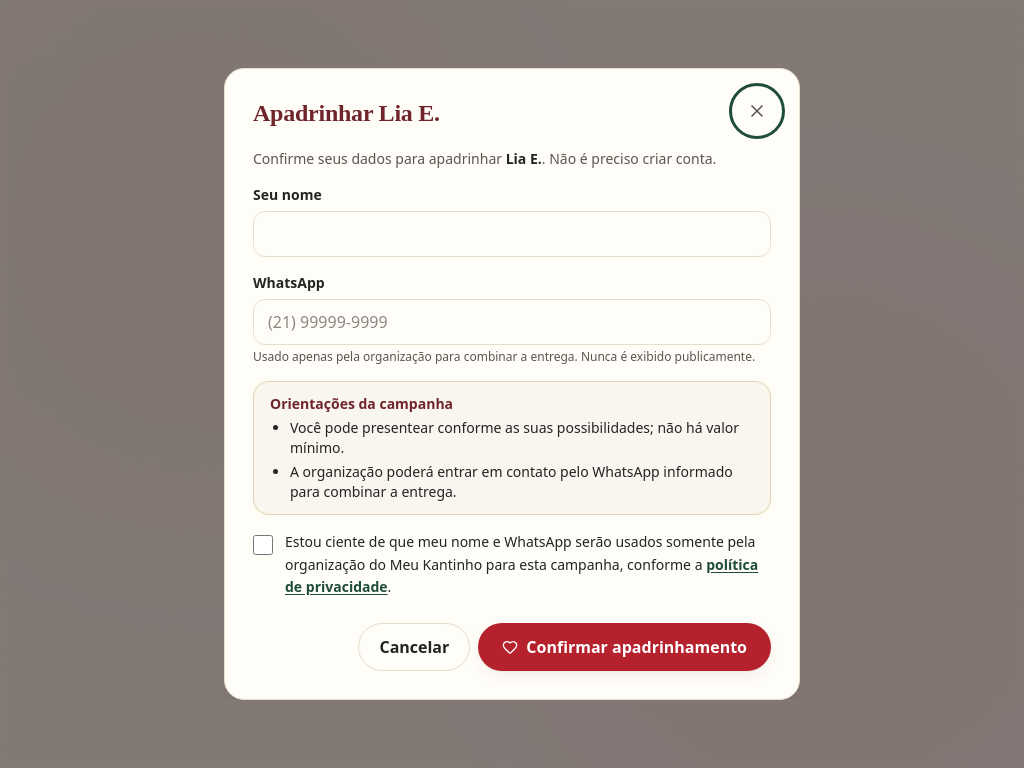
SponsorDialog — animação somente após confirmação do servidor › erro de rede: SEM animação e permite tentar de novo
In the field labelled "Seu nome": [512, 234] box [253,211,771,257], type "Maria Teste"
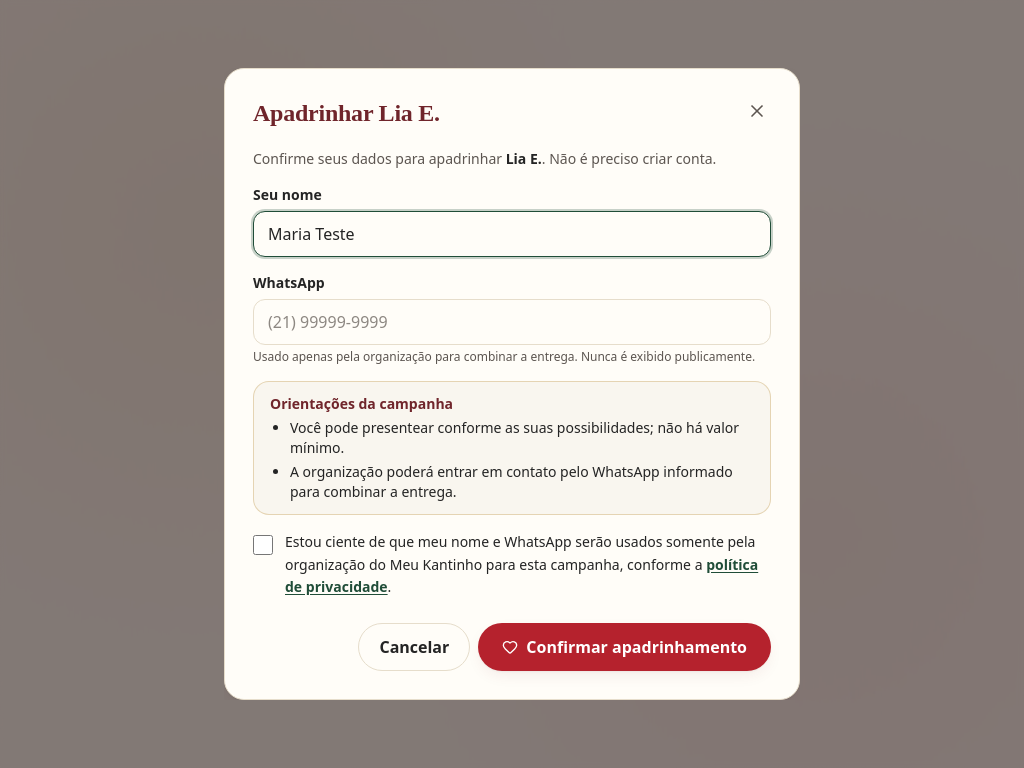
In the field labelled "WhatsApp": [512, 322] box [253,299,771,345], type "21987654321"
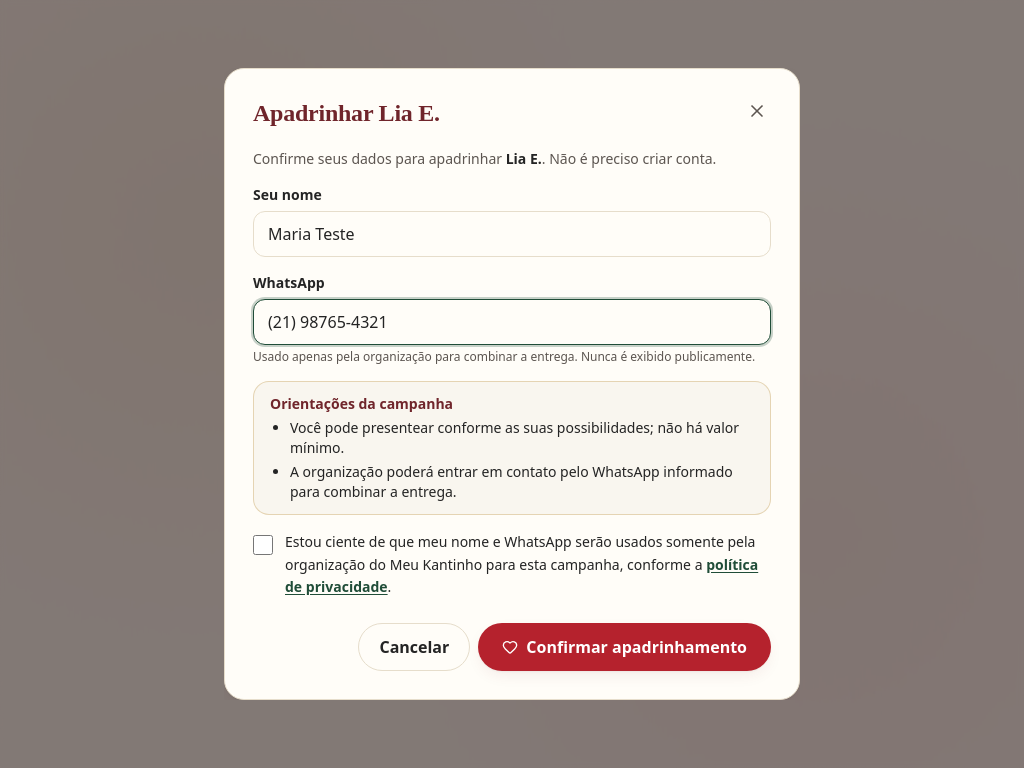
Click the checkbox: [263, 545] box [253,535,273,555]
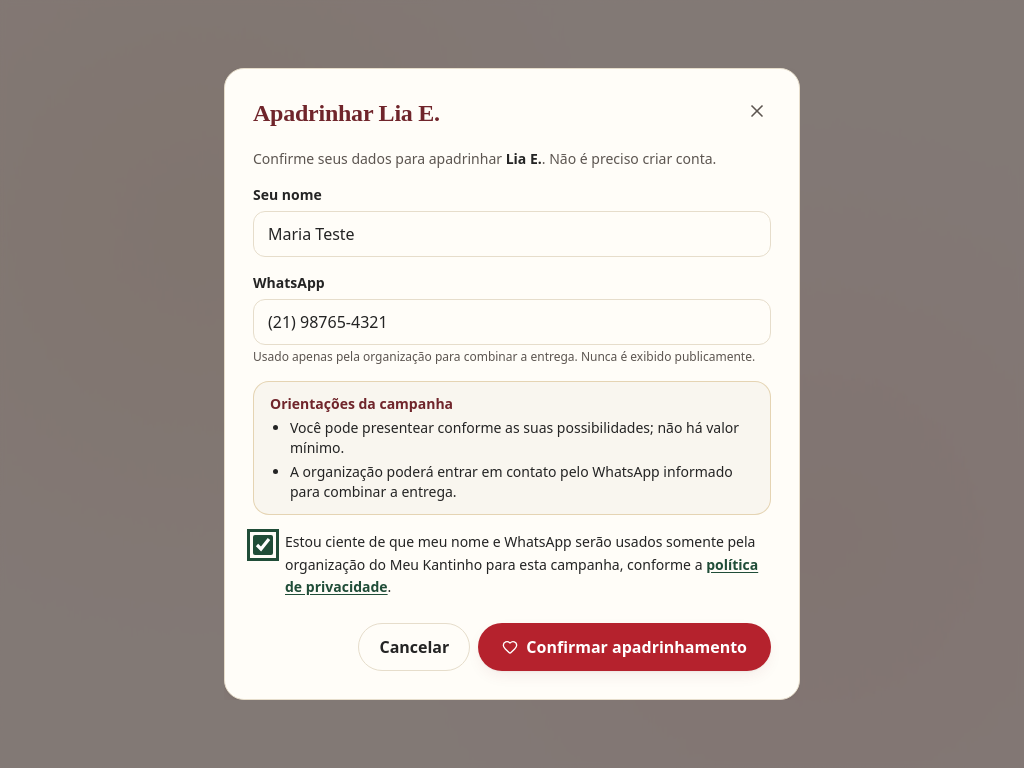
Click the button with test id "confirm-sponsor": [625, 647] box [478,623,771,671]
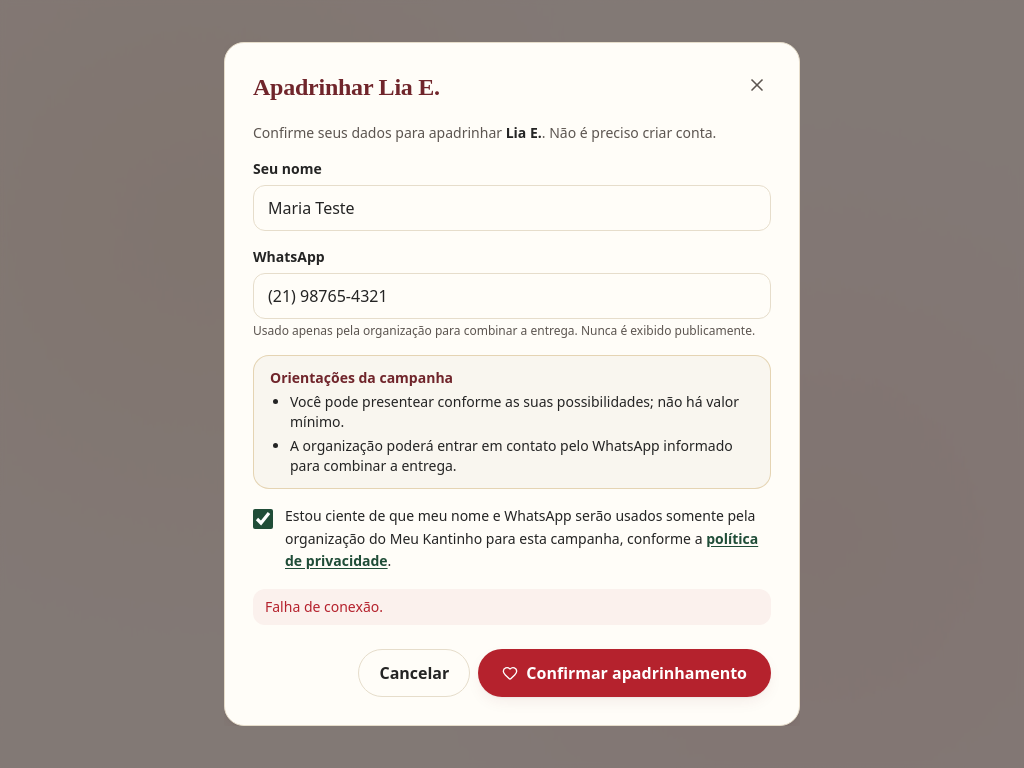
Check: the button with test id "confirm-sponsor" is enabled, box [478,649,771,697]
Check: the message reads "Falha de conexão.", box [265,597,383,616]
